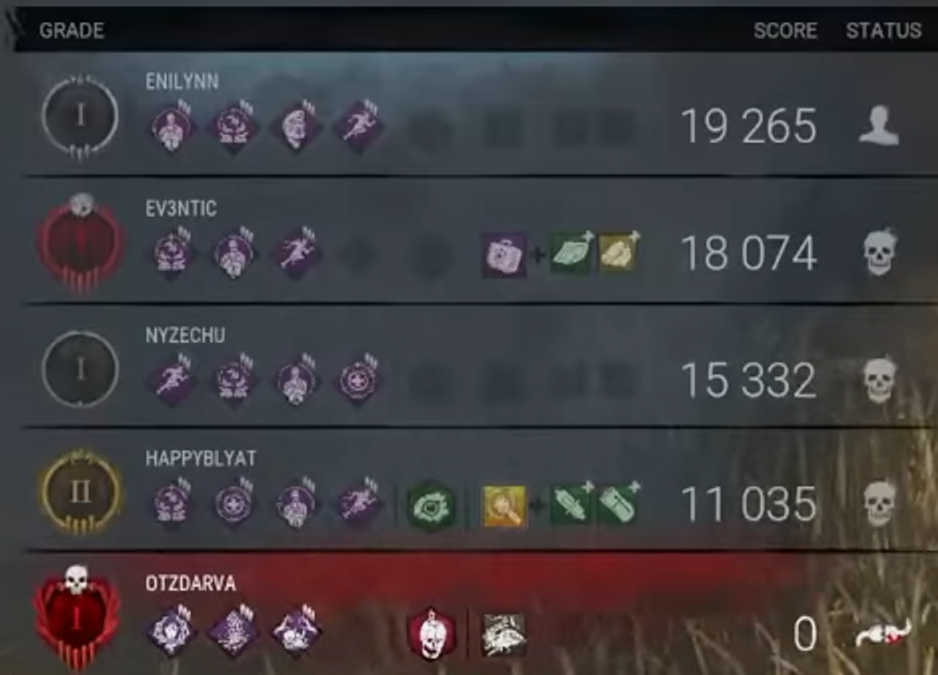blank_perk: (334, 606, 391, 657), (332, 228, 389, 279)
boon:exponential: (206, 103, 263, 154), (142, 228, 199, 279), (206, 354, 263, 405), (142, 478, 199, 529)
circle_of_healing: (331, 353, 388, 404), (205, 478, 262, 529)
corrective_action: (142, 102, 199, 153), (205, 228, 262, 279), (268, 354, 325, 405), (268, 480, 325, 531)
grim_embrace: (140, 605, 197, 656)
hex:pentimento: (268, 606, 325, 657)
overcome: (331, 101, 388, 152), (268, 228, 325, 279), (143, 354, 200, 405), (330, 479, 387, 530)
scourage_hook:pain_resonance: (205, 606, 262, 657)
unbreakable: (268, 102, 325, 153)
